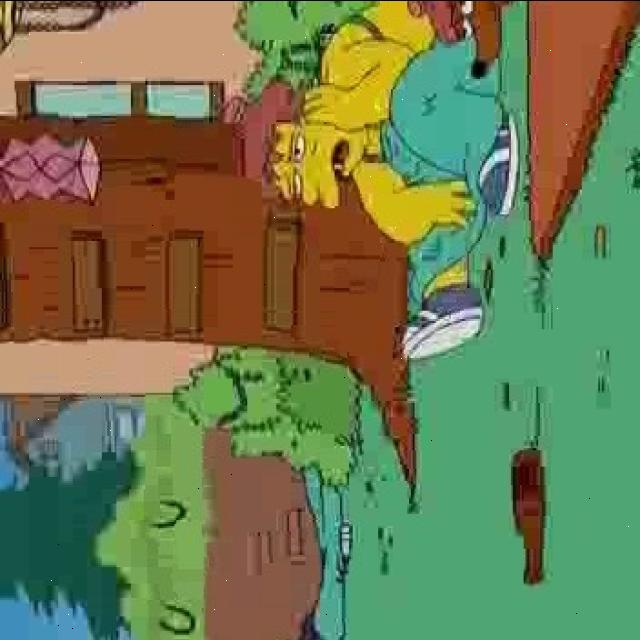Barney Gumble: (253, 92, 369, 216)
